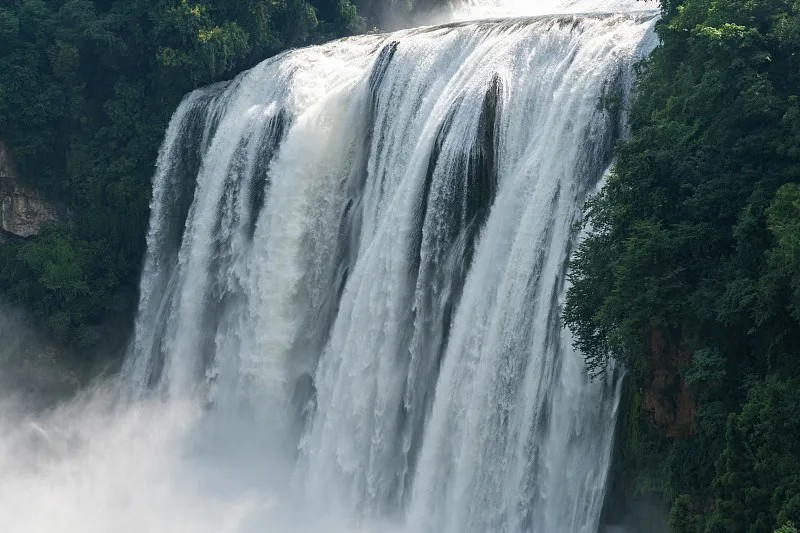Huangguoshu: (133, 14, 656, 533)
